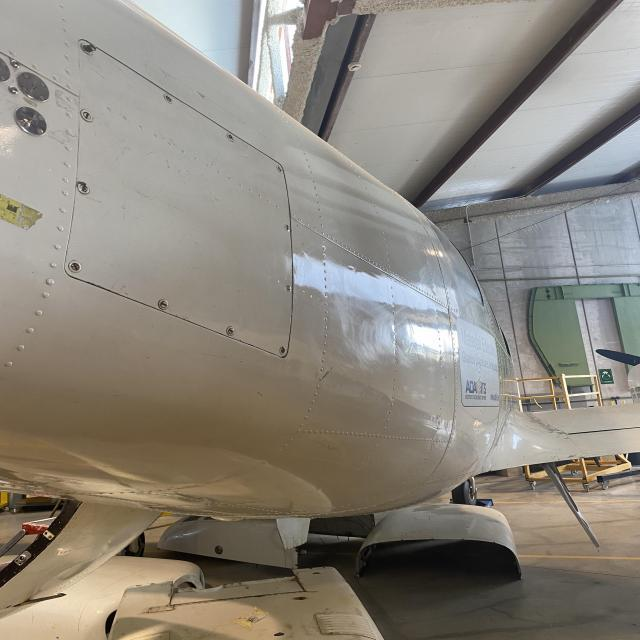Rupture: (488, 456, 496, 474), (577, 454, 588, 462)
